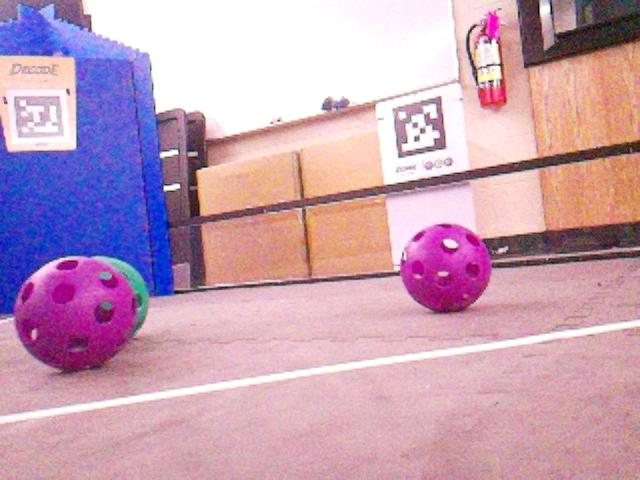Green: (92, 256, 150, 336)
Purple: (13, 255, 139, 372), (398, 222, 493, 312)
